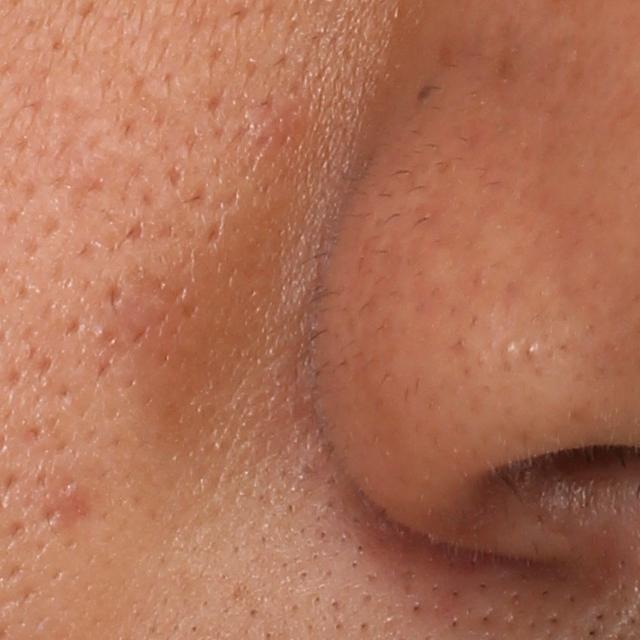nevus: (414, 76, 430, 105)
